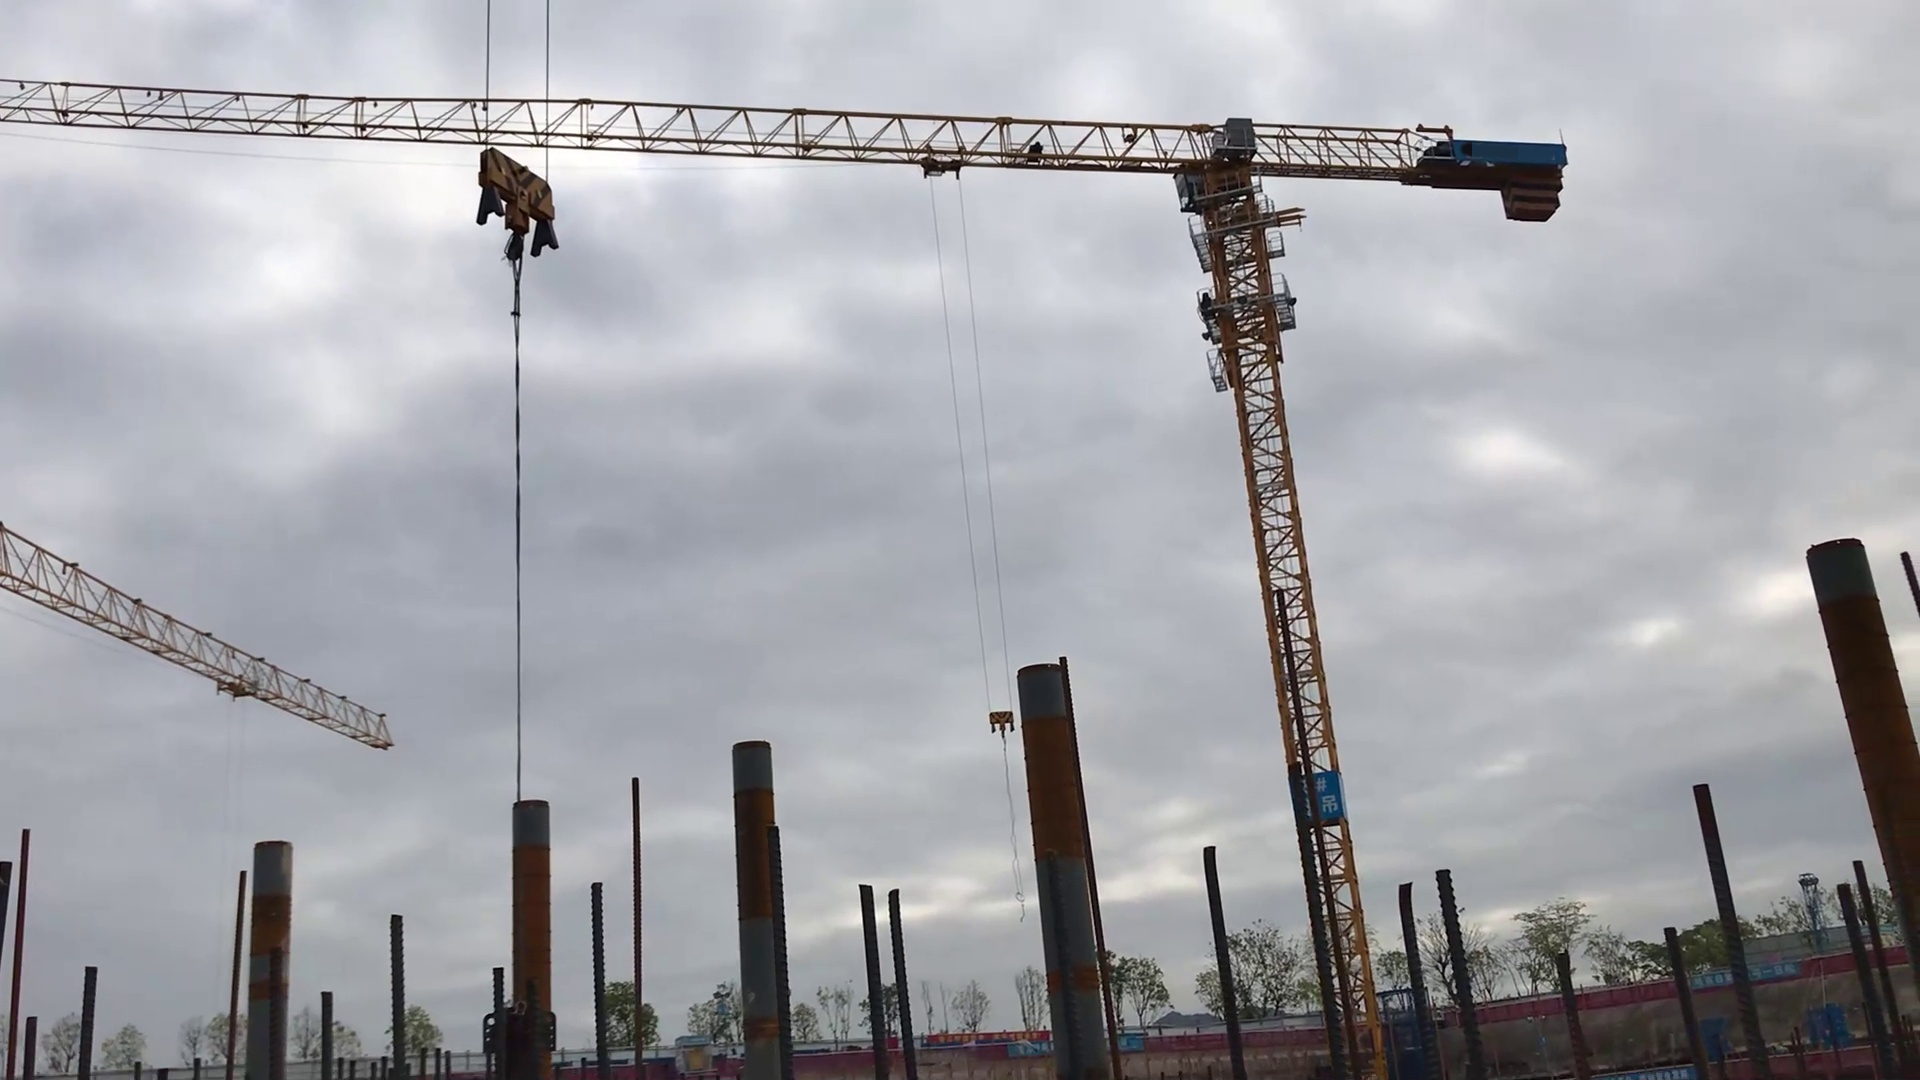fence: (1474, 985, 1567, 1030), (1575, 978, 1685, 1014), (1145, 1026, 1229, 1056), (1236, 1025, 1327, 1052)
hook: (465, 146, 574, 323), (986, 704, 1018, 749)
slogan: (1687, 955, 1840, 998), (1315, 771, 1360, 831)
